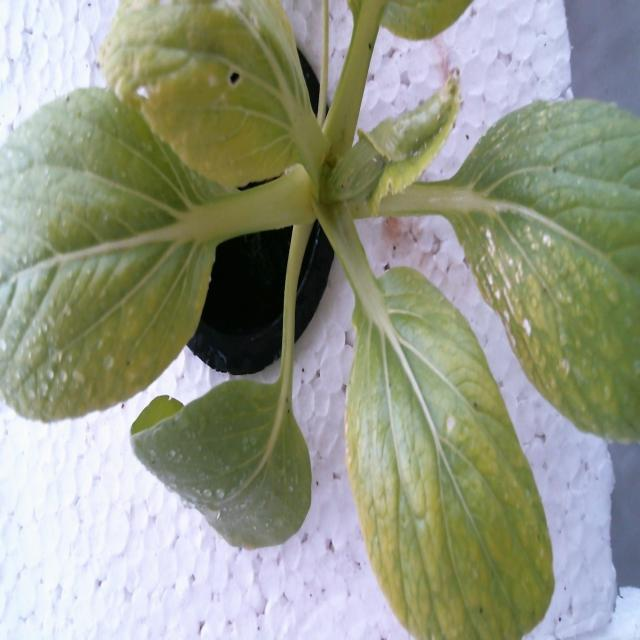pakcoy_tidak_sehat: (0, 4, 616, 626)
